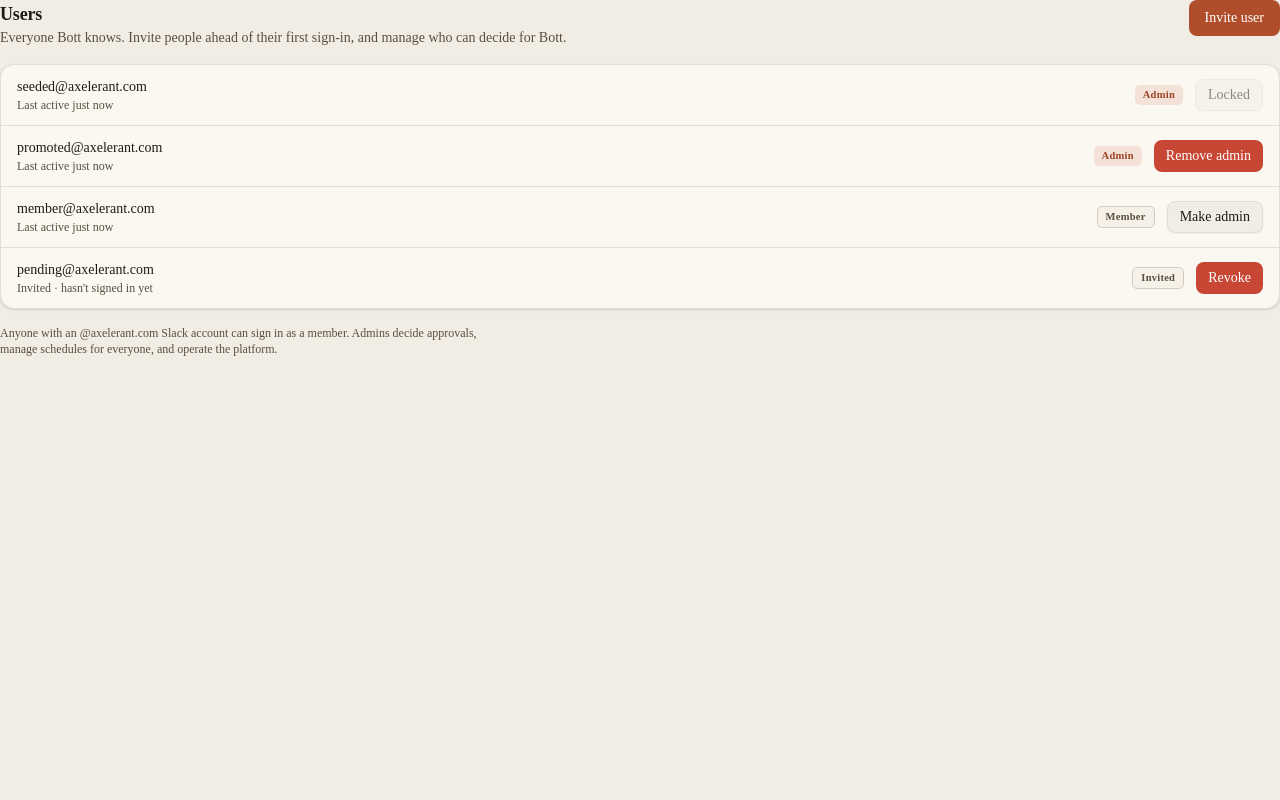
UsersPage › does not allow sending an invite with a blank email
Click the button "Invite user": point(1234, 18) left=1188, top=0, right=1279, bottom=36
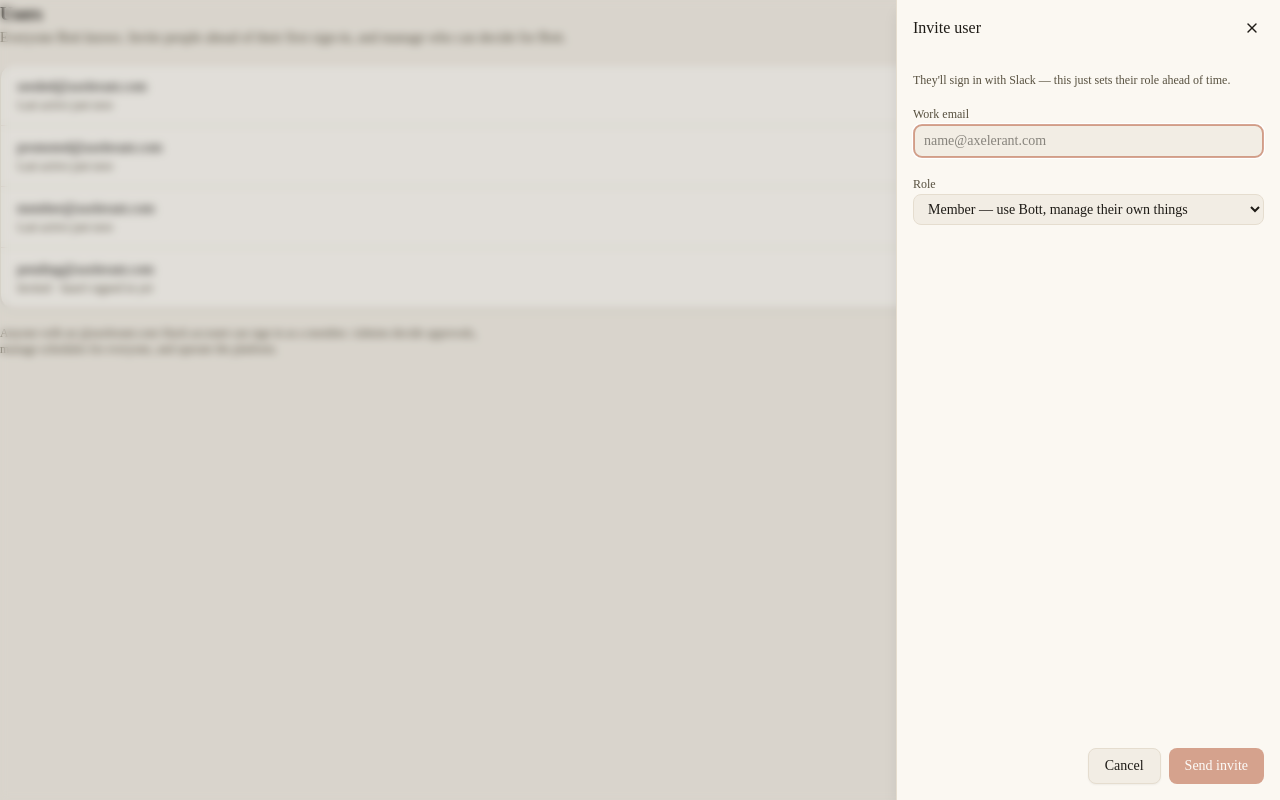
Check: the button "Send invite" is disabled, box left=1169, top=748, right=1264, bottom=784
